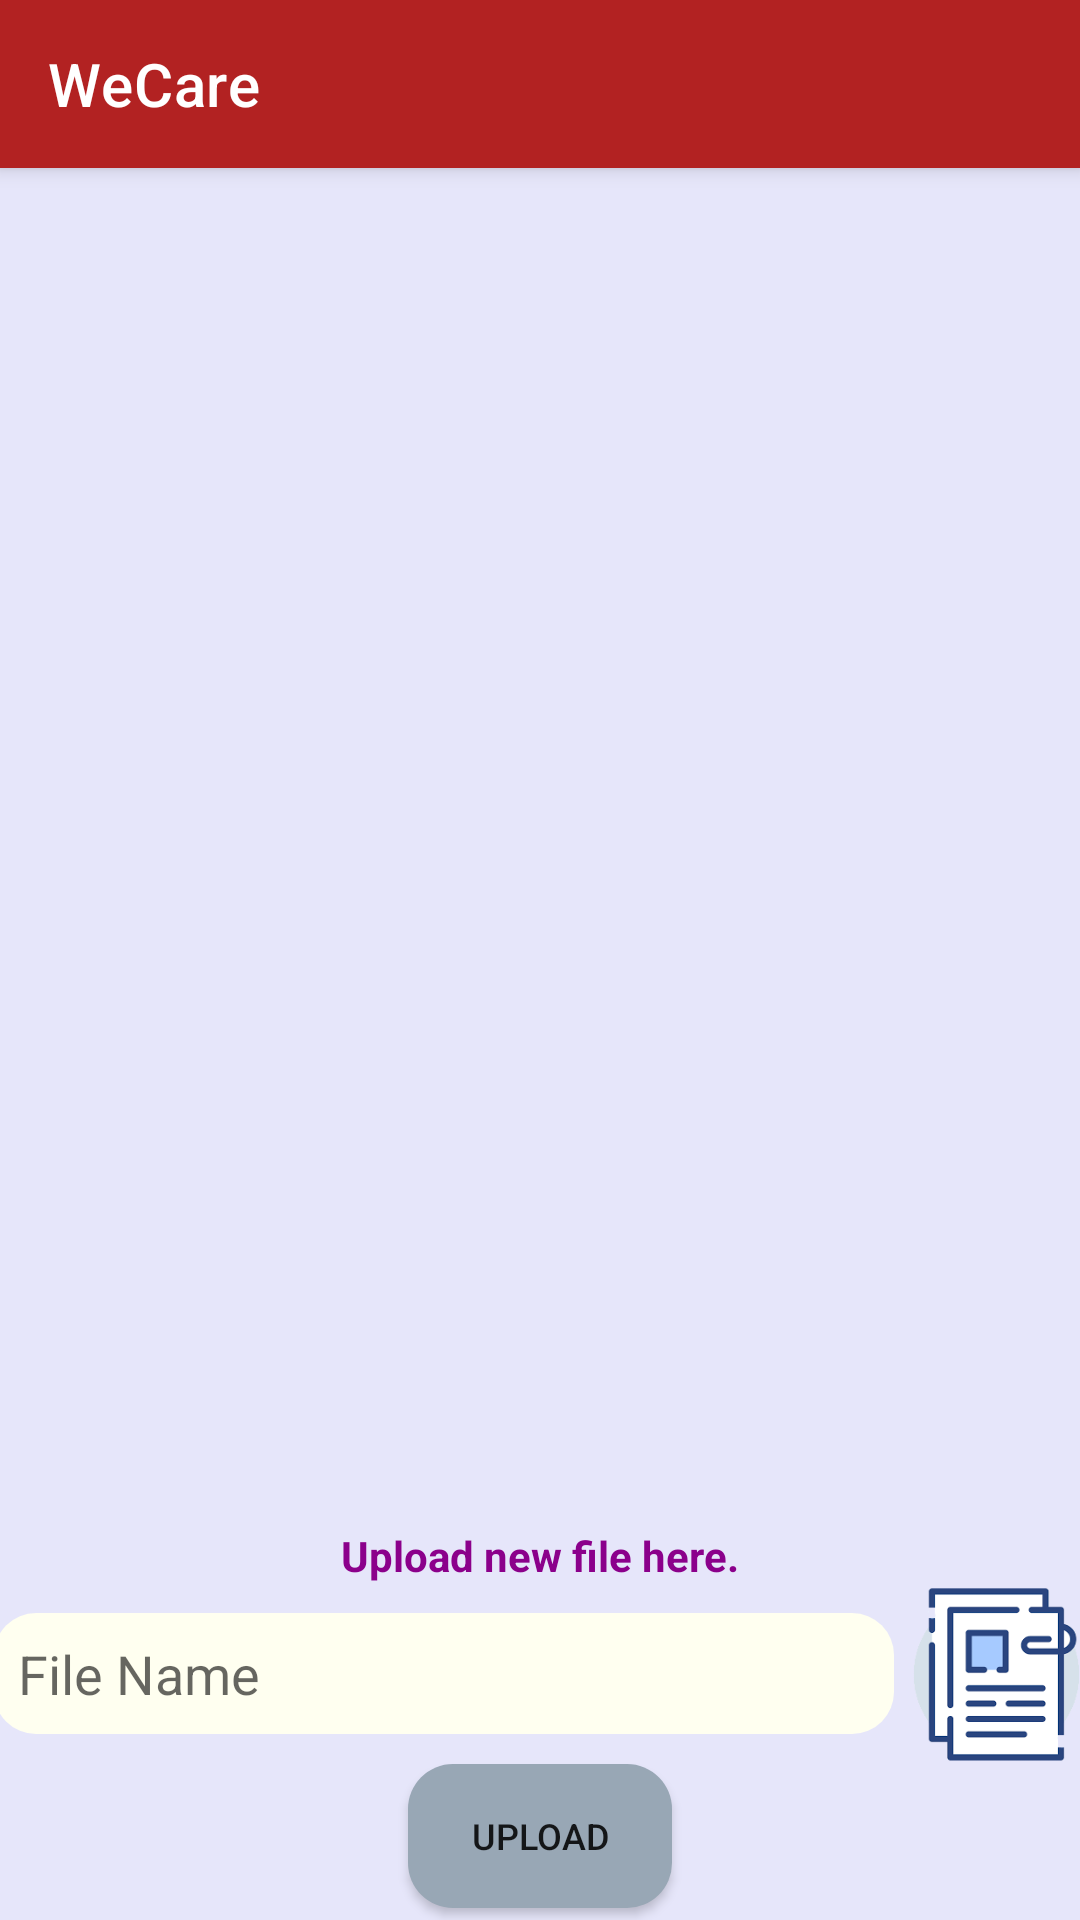

Icon bounding boxes for this 1080×1920 phone screenshot, format detection(x1, y1, x2, y2):
documents: detection(928, 1588, 1077, 1761)
